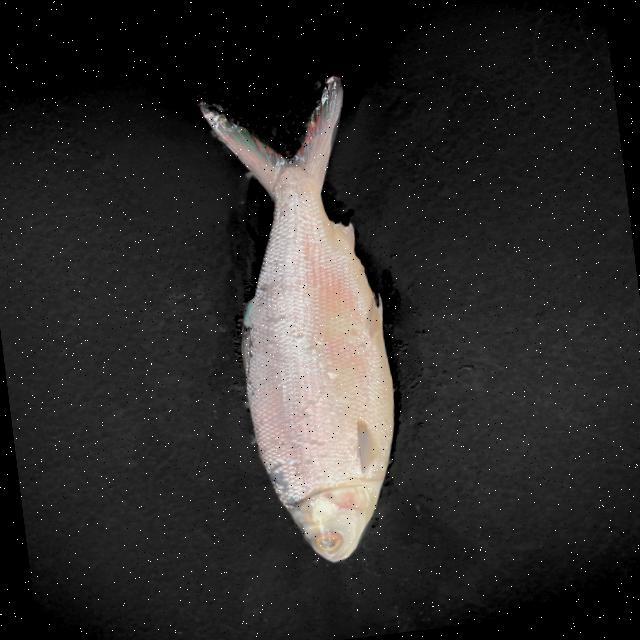705 g: (196, 74, 412, 572)
